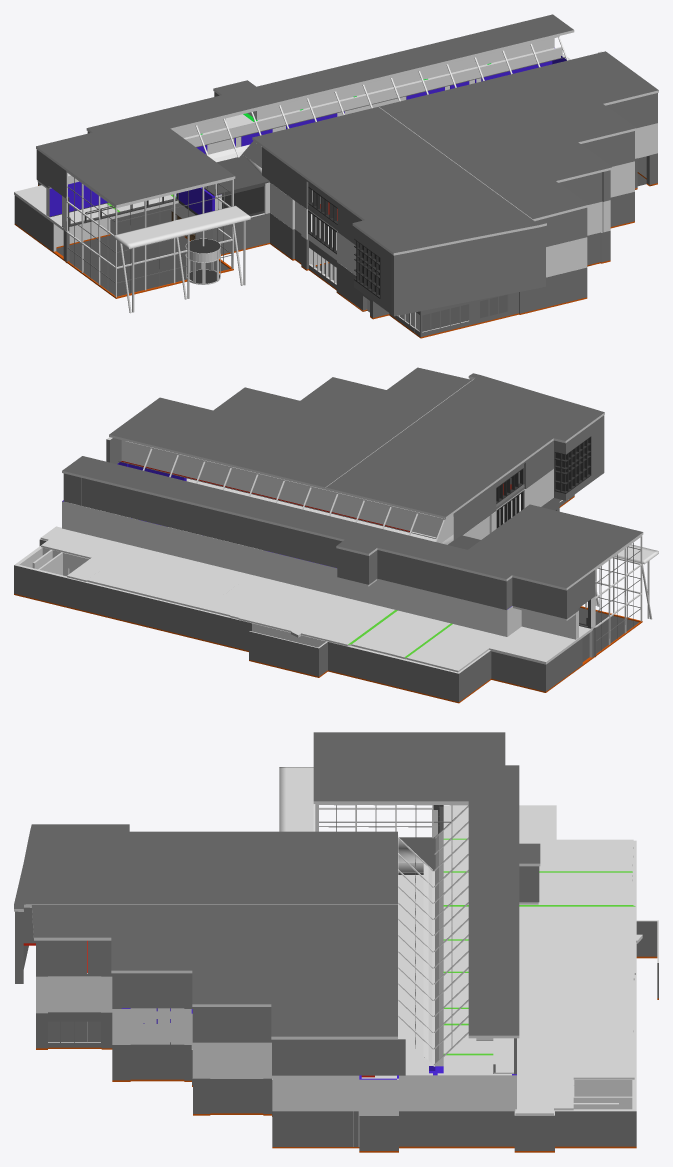
The model's file is FIN_Reception.fbx.
3 views of the same model, one above another, from view 1: azimuth 30°, elevation 25°; view 2: azimuth 150°, elevation 25°; view 3: azimuth 270°, elevation 25° (orthographic). The views are drawn at different scales.
Visible parts, largest first — view 1: Cube.017, Cube.016, Cube.008, Cube.001, Cube.003, Cube.014, Cube.015, Cube.010, Cube.009, Cube.011, Cylinder, Cylinder.003; view 2: Cube.017, Cube.016, Cube.009, Cube.008, Cube.001, Cube.014, Cube.010, Cube.011, Cube.003, Cube.015; view 3: Cube.017, Cube.009, Cube.008, Cube.001, Cube.016, Cube.014, Cube.015, Cube.011, Cube.003.
Boxes of the visible parts, x1,y1,x2,y2 form: Cube.017: (36,14,658,255); Cube.016: (36,38,657,316); Cube.008: (14,153,657,336); Cube.001: (46,54,657,277); Cube.003: (56,173,646,331); Cube.014: (66,36,568,248); Cube.015: (37,48,560,220); Cube.010: (66,196,233,297); Cube.009: (14,185,336,250); Cube.011: (14,172,657,338); Cylinder: (185,238,220,284); Cylinder.003: (120,221,245,313); Cube.017: (62,367,643,590); Cube.016: (63,378,604,618); Cube.009: (40,478,593,672); Cube.008: (14,495,596,701); Cube.001: (62,462,594,639); Cube.014: (118,441,658,597); Cube.010: (585,557,642,650); Cube.011: (14,496,642,703); Cube.003: (559,499,638,661); Cube.015: (121,461,575,620); Cube.017: (14,732,540,1039); Cube.009: (361,805,642,1115); Cube.008: (36,807,658,1150); Cube.001: (36,805,516,1115); Cube.016: (15,866,539,1075); Cube.014: (279,767,468,1066); Cube.015: (23,837,538,1077); Cube.011: (36,956,658,1152); Cube.003: (48,1021,100,1042).
Bounding box in the file's own units: 74419 × 13337 × 65539.
